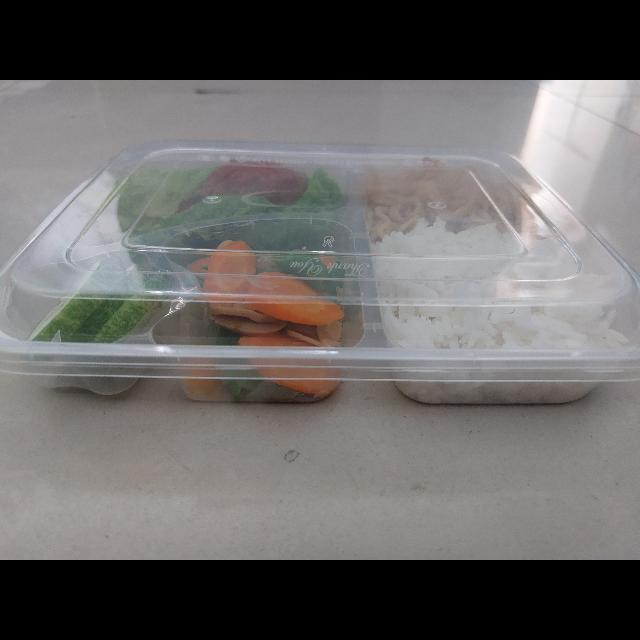bento: (2, 135, 640, 414)
